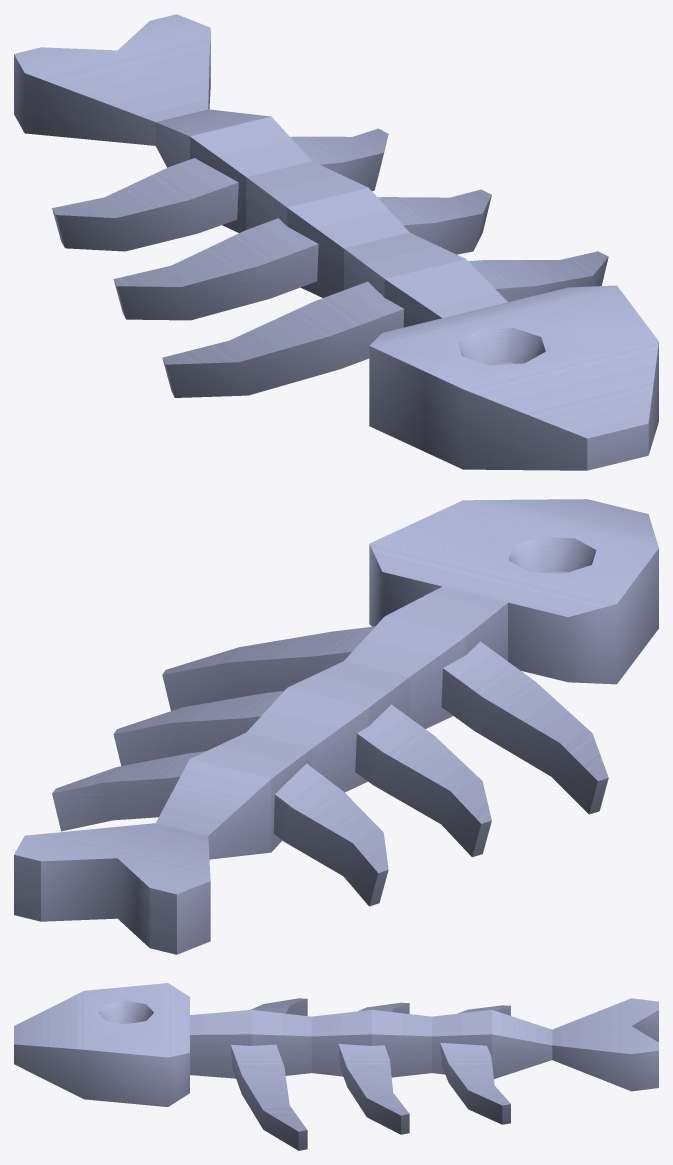
File: fish-bones.glb
3 views of the same model, one above another, from view 1: azimuth 30°, elevation 25°; view 2: azimuth 150°, elevation 25°; view 3: azimuth 270°, elevation 25° (orthographic). The views are drawn at different scales.
Parts seen in each view (by area): view 1: fish-bones; view 2: fish-bones; view 3: fish-bones.
Part boxes in pixels (x1,y1,x2,y2): fish-bones: (14,14,658,470); fish-bones: (14,499,658,954); fish-bones: (14,983,658,1150).
Bounding box in the file's own units: 0.3113 × 0.0726 × 0.6358.
1 material, 1 textured.
